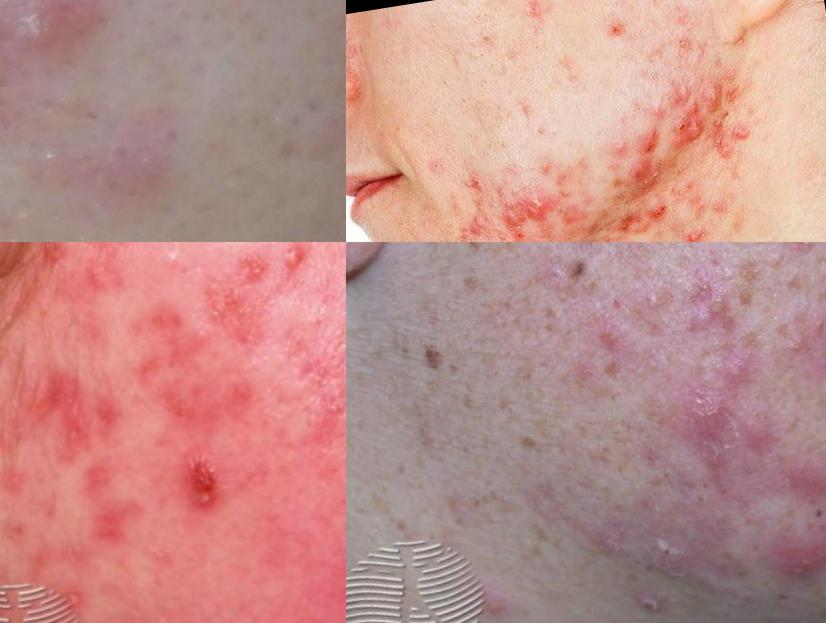acne_scars: (24, 369, 102, 473), (86, 494, 154, 554), (220, 298, 271, 368), (124, 308, 191, 349), (90, 397, 141, 447), (209, 376, 256, 426), (290, 348, 337, 397), (701, 70, 747, 118), (1, 510, 36, 564), (164, 388, 198, 434), (554, 198, 588, 233)
blackhead: (419, 135, 465, 191), (514, 19, 559, 69), (466, 23, 504, 69)
papular: (673, 268, 752, 353), (16, 1, 115, 57), (674, 388, 748, 457), (765, 446, 826, 506), (473, 587, 522, 623), (599, 13, 635, 48), (683, 221, 712, 243)
purulent: (666, 28, 703, 64), (282, 243, 315, 282)
sebo-crystan-conglo: (611, 117, 671, 201), (605, 192, 688, 241), (495, 184, 558, 243), (182, 455, 230, 532), (771, 539, 826, 606), (665, 101, 712, 157), (728, 111, 764, 147)
whitehead: (149, 243, 199, 292), (442, 223, 481, 243)
